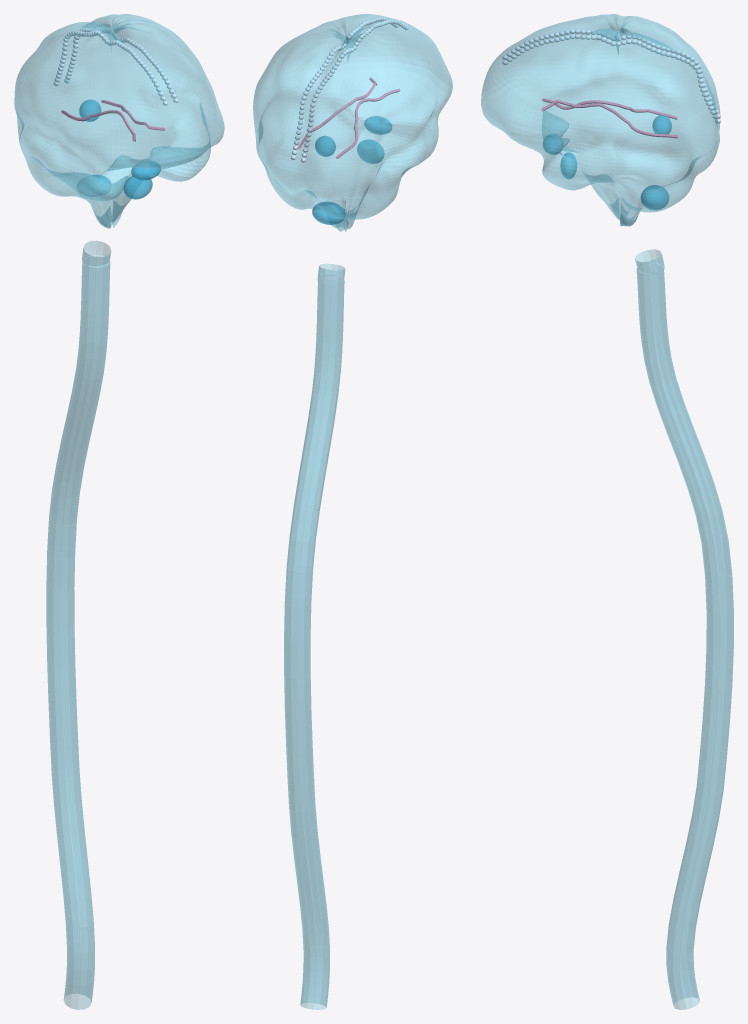
Rendered from bodyparts3d-brain-csf.glb.
3 renders of one model, left to right at view 1: azimuth 30°, elevation 25°; view 2: azimuth 150°, elevation 25°; view 3: azimuth 270°, elevation 25°, orthographic. The views are drawn at different scales.
Parts seen in each view (by area): view 1: csf_shell, thecal_sac, cisterns, granulations, choroid; view 2: csf_shell, thecal_sac, cisterns, granulations, choroid; view 3: csf_shell, thecal_sac, granulations, cisterns, choroid.
Part boxes in pixels (x1,y1,x2,y2): csf_shell: (14, 14, 224, 228); thecal_sac: (46, 241, 110, 1009); cisterns: (77, 99, 160, 199); granulations: (53, 28, 178, 105); choroid: (61, 100, 165, 141); csf_shell: (253, 14, 452, 231); thecal_sac: (284, 264, 345, 1009); cisterns: (312, 116, 391, 224); granulations: (291, 16, 408, 162); choroid: (298, 77, 400, 158); csf_shell: (481, 14, 720, 226); thecal_sac: (635, 249, 733, 1009); granulations: (502, 29, 720, 123); cisterns: (543, 115, 671, 209); choroid: (541, 98, 677, 138).
Bounding box in the file's own units: 0.1428 × 0.8297 × 0.1937.
